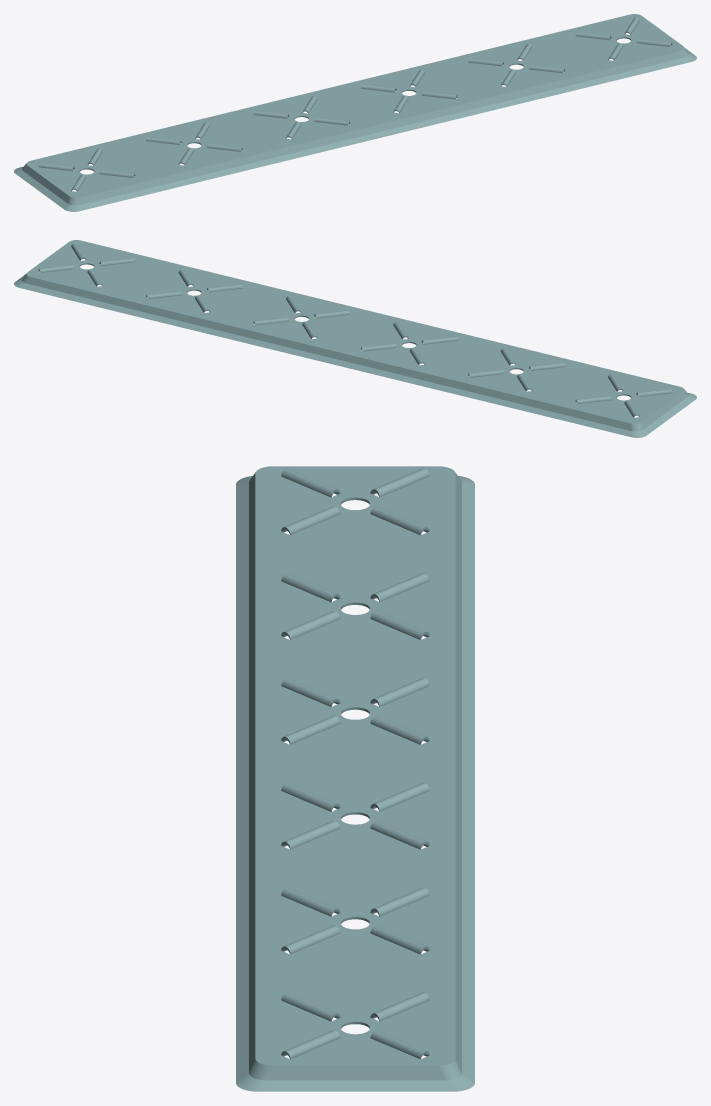
The model's file is pushrod-cover.glb.
3 views of the same model, one above another, from view 1: azimuth 30°, elevation 25°; view 2: azimuth 150°, elevation 25°; view 3: azimuth 270°, elevation 25° (orthographic). The views are drawn at different scales.
Visible parts, largest first — view 1: world; view 2: world; view 3: world.
Boxes of the visible parts, x1=… form: world: x1=14, y1=14, x2=696, y2=211; world: x1=14, y1=240, x2=696, y2=437; world: x1=236, y1=466, x2=474, y2=1091.
Bounding box in the file's own units: 0.67 × 0.012 × 0.11.
